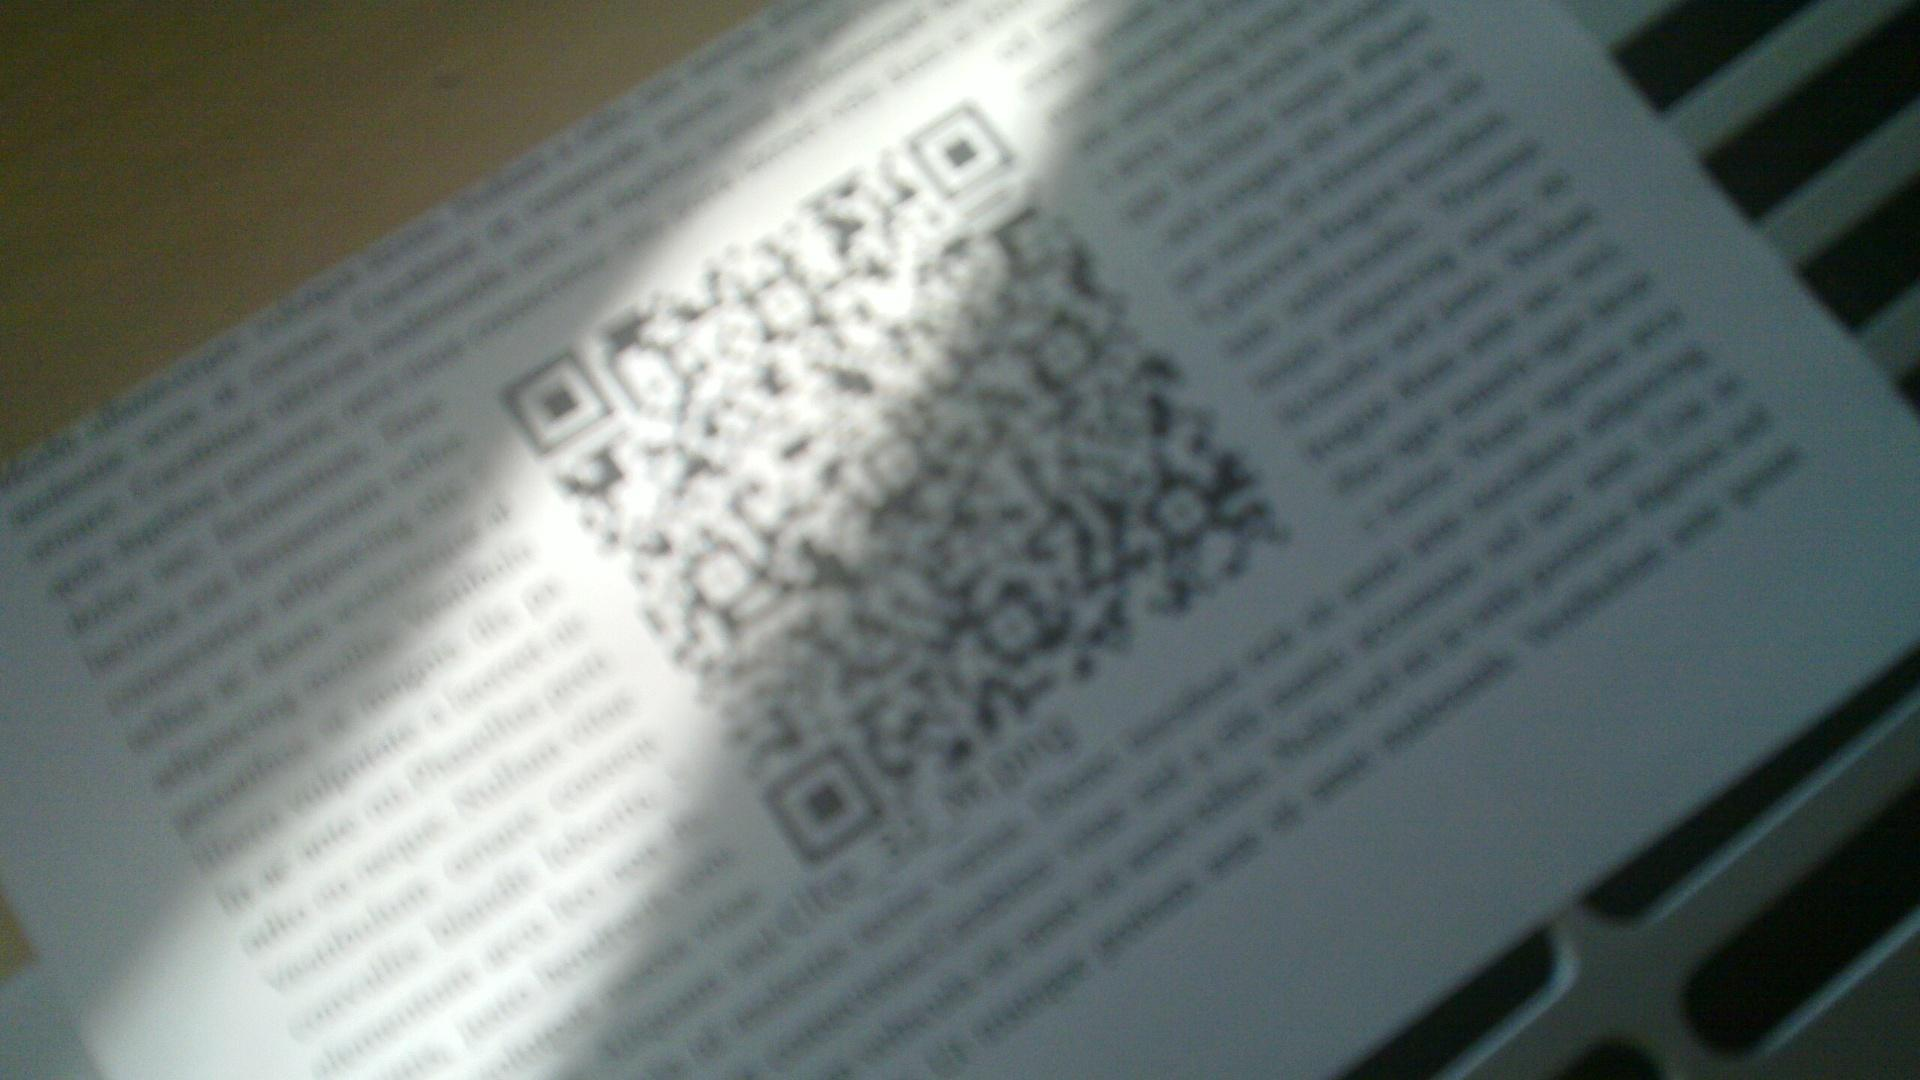Finder pattern: (760, 746, 885, 862), (477, 359, 620, 458), (905, 98, 1015, 196)
